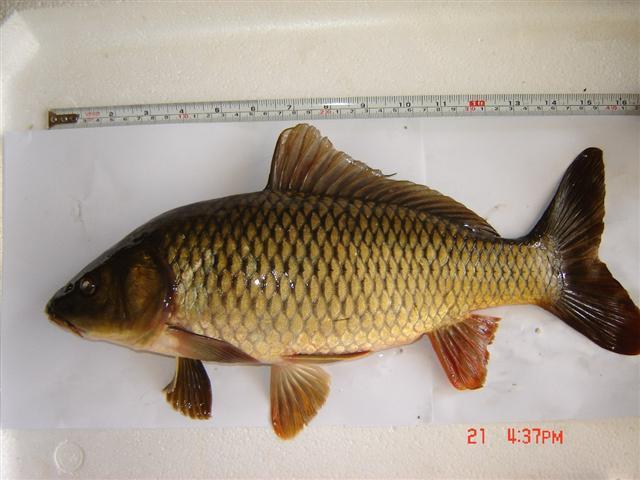Mulut: (29, 268, 91, 356)
Sirip Anal: (420, 299, 512, 410)
Sirip Dada: (156, 314, 264, 442)
Sirip Perut: (263, 338, 385, 450)
Sirip Punggung: (251, 115, 507, 251), (532, 136, 640, 373)
